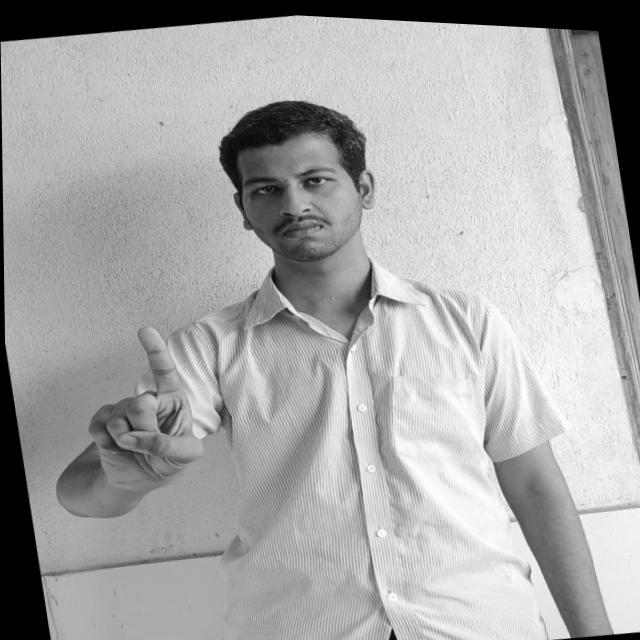Question: (72, 315, 212, 499)
